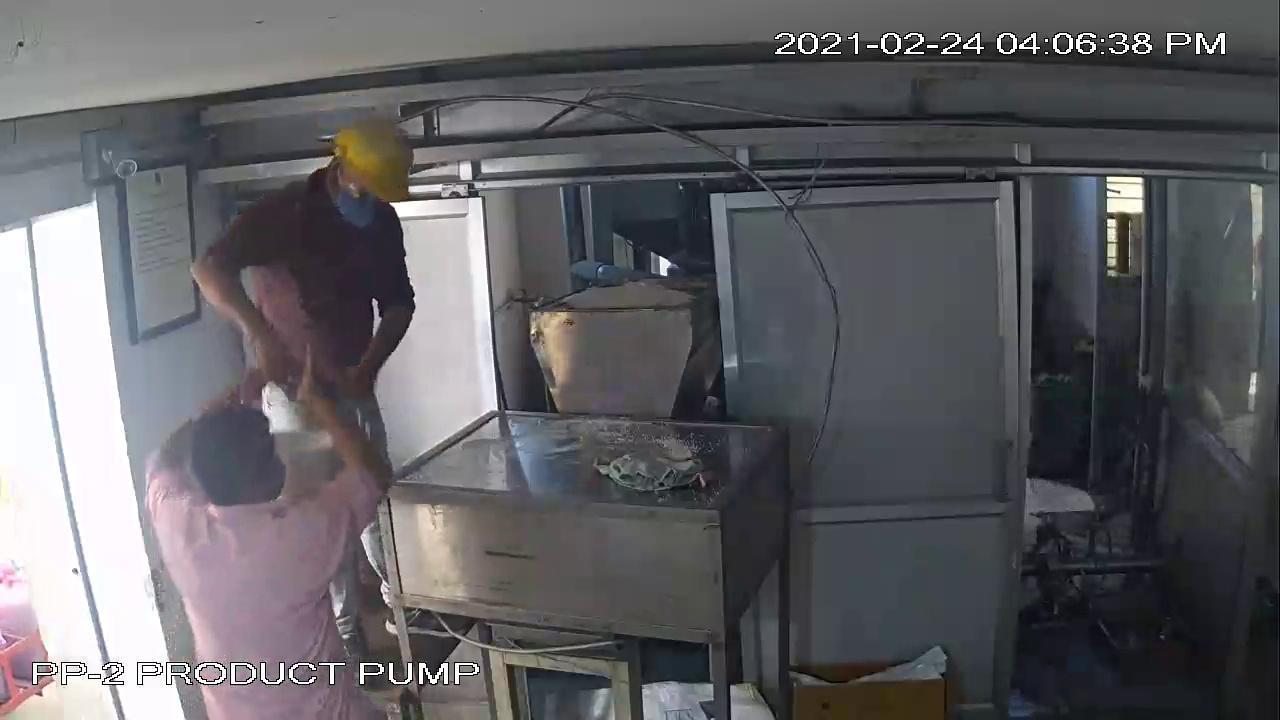helmet: (334, 109, 428, 210)
